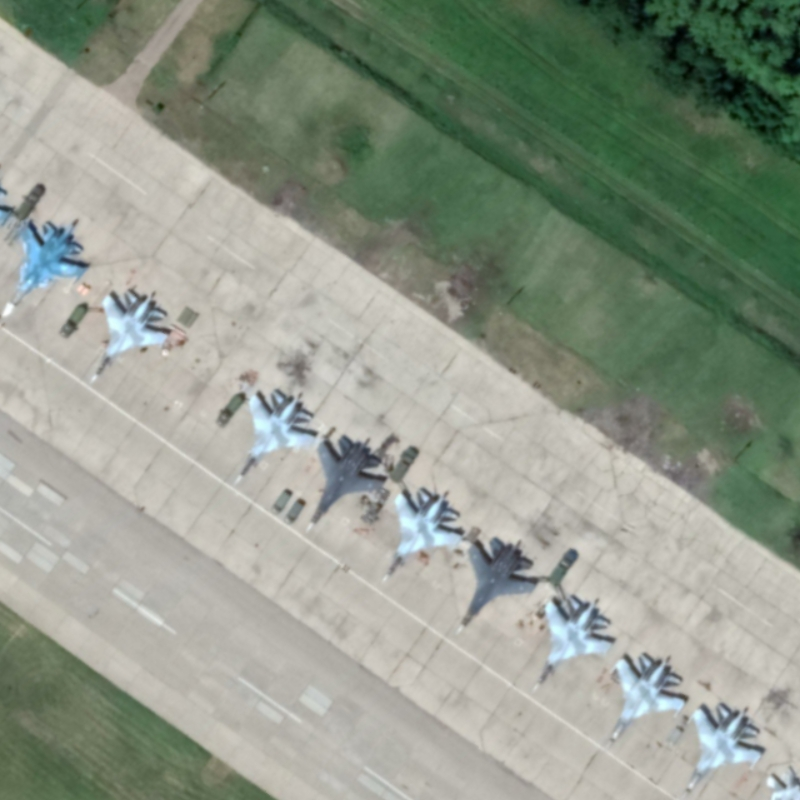A1: (530, 593, 616, 695), (303, 433, 389, 534), (380, 485, 466, 584), (455, 535, 539, 636), (232, 388, 317, 487), (89, 287, 170, 383), (682, 701, 763, 797), (608, 651, 686, 746)
A19: (1, 218, 88, 320)
